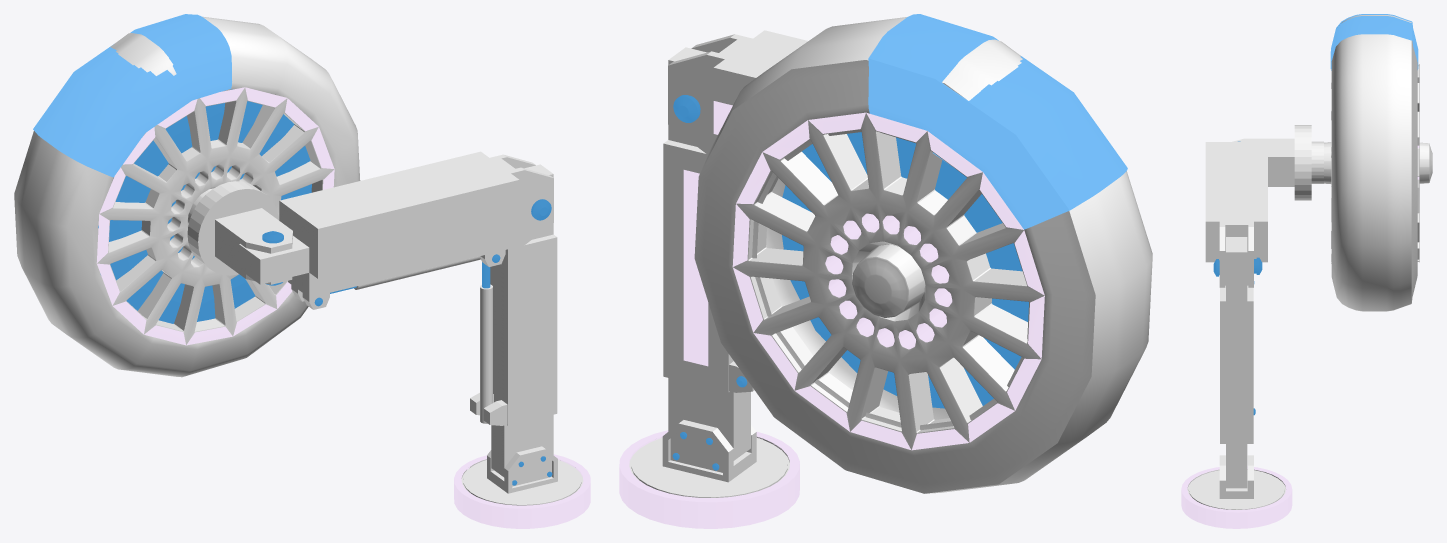
3 renders of one model, left to right at view 1: azimuth 30°, elevation 25°; view 2: azimuth 150°, elevation 25°; view 3: azimuth 270°, elevation 25°, orthographic. The views are drawn at different scales.
Parts seen in each view (by area): view 1: ban_2.025, ban_2.027, Plane.043, ban_2.029, Cube.007, ban_2.026, Plane.042, Circle.079, Circle.080, Plane.047, Cylinder.020, Plane.044; view 2: ban_2.028, ban_2.025, ban_2.029, Cube.007, Plane.042, Plane.043, Circle.079, ban_2.026, Circle.093; view 3: ban_2.025, Cube.007, Plane.043, Plane.042, Circle.079, Circle.080, ban_2.029, Plane.047, ban_2.028, ban_2.027.
Part boxes in pixels (box(x1,y1,x2,y2)): ban_2.025: box(14, 16, 360, 377); ban_2.027: box(96, 87, 334, 345); Plane.043: box(239, 151, 553, 297); ban_2.029: box(33, 14, 231, 177); Cube.007: box(490, 164, 557, 477); ban_2.026: box(98, 89, 311, 323); Plane.042: box(461, 446, 583, 505); Circle.079: box(454, 454, 590, 528); Circle.080: box(187, 181, 278, 275); Plane.047: box(215, 208, 292, 284); Cylinder.020: box(480, 284, 492, 423); Plane.044: box(470, 393, 507, 425); ban_2.028: box(732, 112, 1044, 450); ban_2.025: box(694, 17, 1152, 493); ban_2.029: box(868, 14, 1127, 229); Cube.007: box(663, 47, 750, 460); Plane.042: box(629, 420, 789, 497); Plane.043: box(668, 30, 808, 154); Circle.079: box(619, 430, 799, 528); ban_2.026: box(782, 132, 1028, 408); Circle.093: box(673, 95, 700, 122); ban_2.025: box(1331, 15, 1417, 311); Cube.007: box(1220, 237, 1253, 488); Plane.043: box(1205, 142, 1267, 287); Plane.042: box(1187, 455, 1285, 509); Circle.079: box(1181, 466, 1292, 528); Circle.080: box(1294, 125, 1323, 200); ban_2.029: box(1330, 14, 1418, 70); Plane.047: box(1232, 138, 1294, 186); ban_2.028: box(1417, 64, 1432, 262); ban_2.027: box(1324, 69, 1331, 263).
Bounding box in the file's own units: 22.62 × 21.78 × 13.01.
